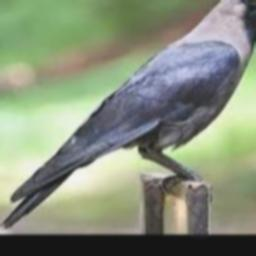Crow: (3, 0, 256, 230)
